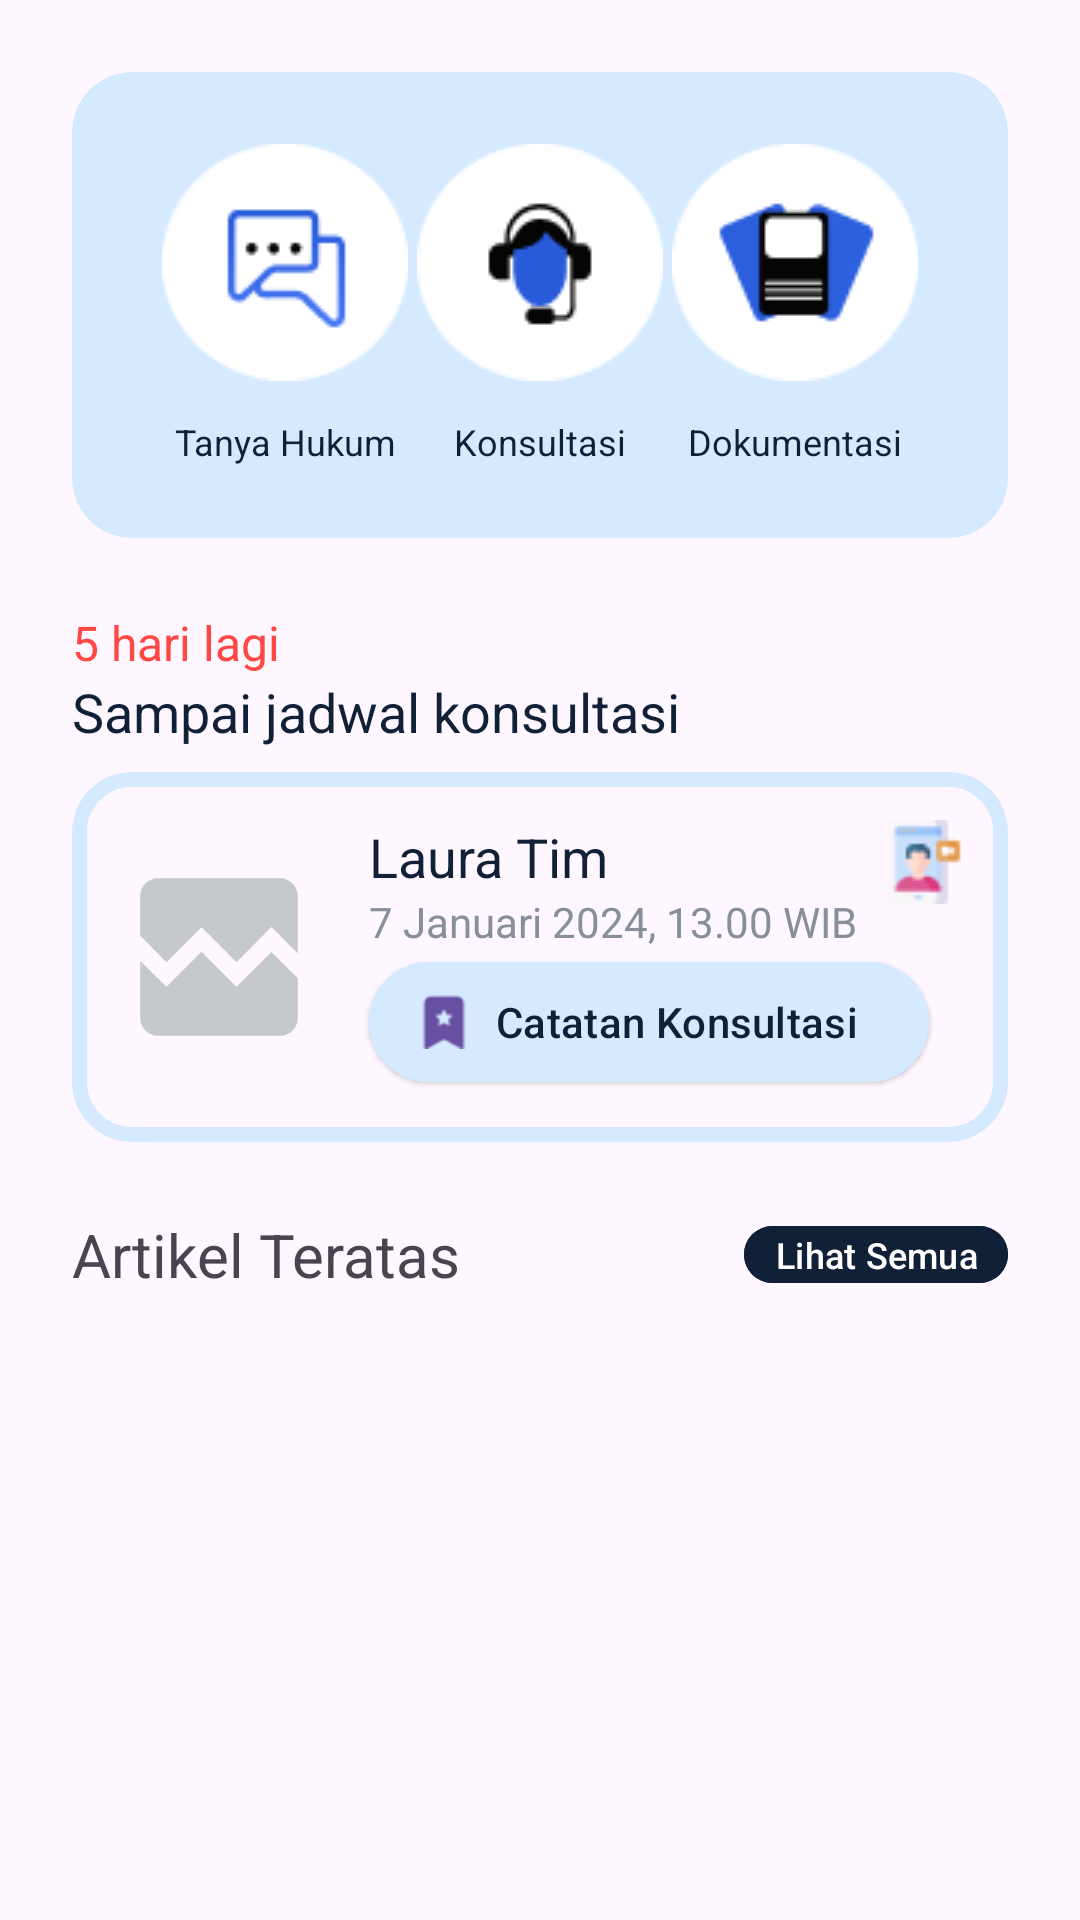

Icon bounding boxes for this 1080 × 1920 phone screenshot, format (x1,y1,x2,y2):
service ai chat: (162,144,408,381)
vidcall consultation: (894,820,961,904)
